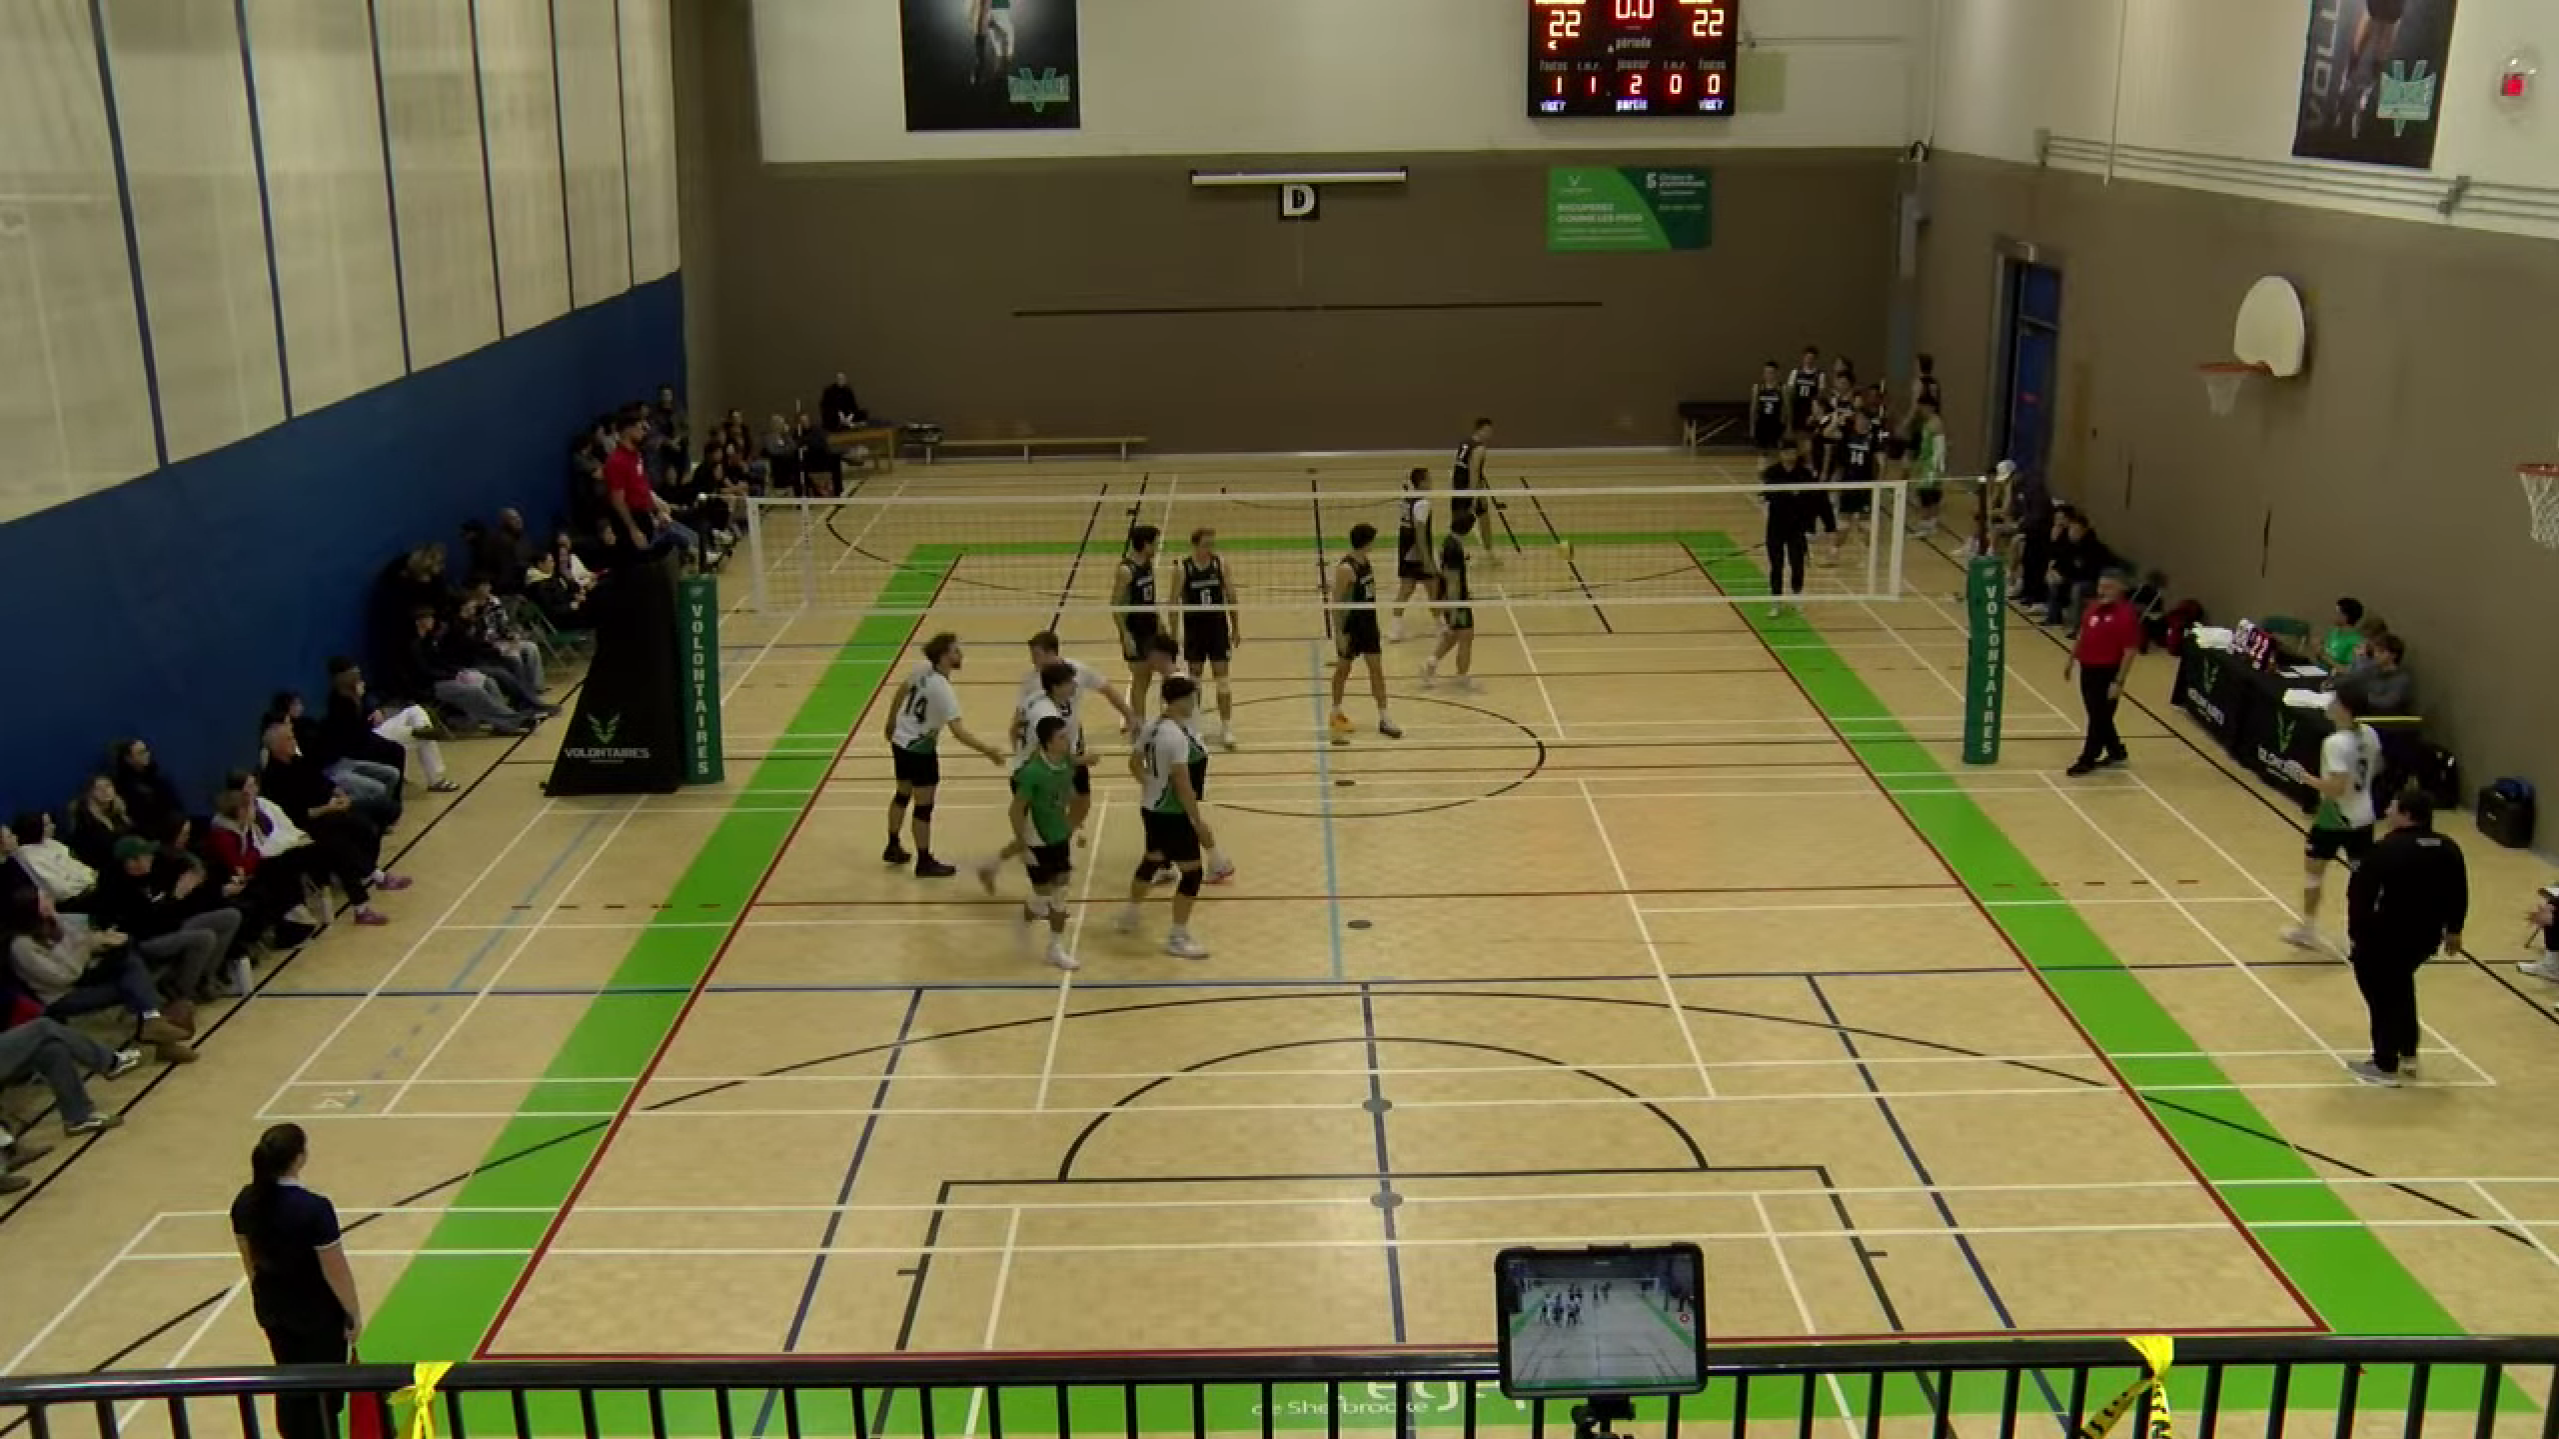Ball: (1554, 538, 1577, 562)
